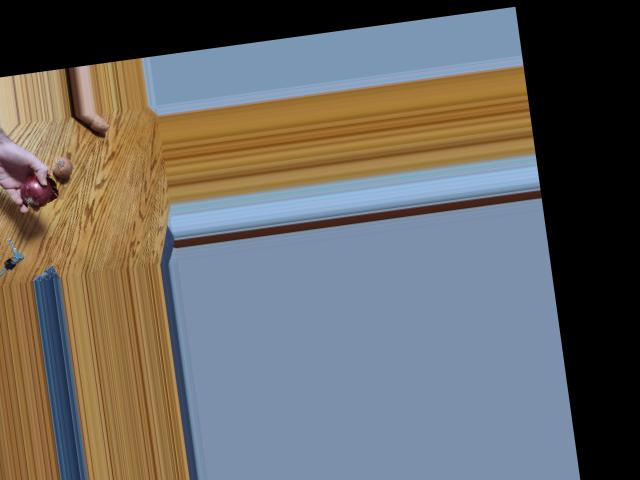onion: (41, 155, 76, 180)
